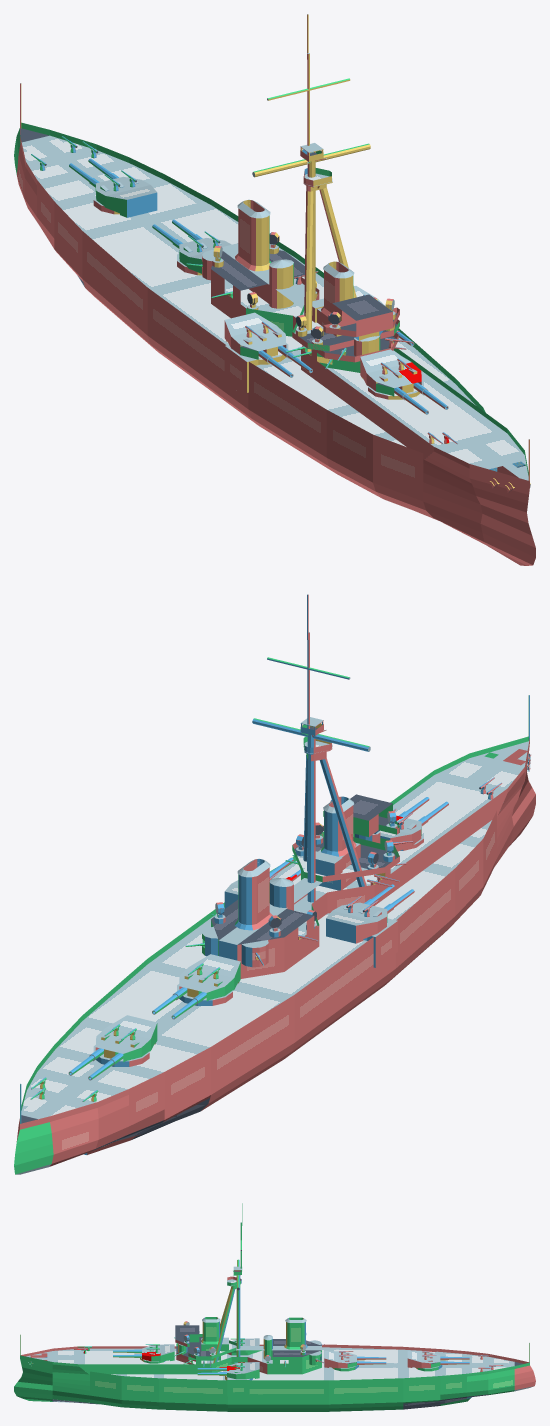
Rendered from dreadnought.glb.
3 renders of one model, top to bottom at view 1: azimuth 30°, elevation 25°; view 2: azimuth 150°, elevation 25°; view 3: azimuth 270°, elevation 25°, orthographic. The views are drawn at different scales.
Visible parts, largest first — view 1: cube (×20), raised_section, cylinder (×3), tube (×2), cube_selection (×2), aft_conning_tower, cube_selection_selection, q_barbette_armor; view 2: cube (×19), raised_section, cube_selection (×4), cylinder (×3), tube (×2), cube_selection_selection, aft_conning_tower; view 3: cube (×22), raised_section, cube_selection (×4), tube (×2), cylinder (×2), p_barbette_armor, cube_selection_selection.
Part boxes in pixels (left/top/right/bottom): cube (×20): left=18, top=135, right=529, bottom=523; raised_section: left=301, top=350, right=506, bottom=459; cylinder (×3): left=252, top=143, right=370, bottom=351; tube (×2): left=238, top=203, right=353, bottom=312; cube_selection (×2): left=317, top=294, right=433, bottom=451; aft_conning_tower: left=269, top=259, right=293, bottom=308; cube_selection_selection: left=211, top=251, right=267, bottom=290; q_barbette_armor: left=224, top=352, right=248, bottom=392; cube (×19): left=21, top=741, right=529, bottom=1154; raised_section: left=350, top=775, right=506, bottom=905; cube_selection (×4): left=218, top=794, right=392, bottom=978; cylinder (×3): left=252, top=718, right=370, bottom=902; tube (×2): left=238, top=800, right=353, bottom=924; cube_selection_selection: left=237, top=909, right=313, bottom=944; aft_conning_tower: left=269, top=878, right=293, bottom=910; cube (×22): left=20, top=1347, right=514, bottom=1411; raised_section: left=79, top=1348, right=211, bottom=1374; cube_selection (×4): left=79, top=1344, right=403, bottom=1383; tube (×2): left=202, top=1319, right=305, bottom=1346; cylinder (×2): left=213, top=1288, right=240, bottom=1363; p_barbette_armor: left=227, top=1383, right=249, bottom=1396; cube_selection_selection: left=272, top=1350, right=321, bottom=1356.
Size of the model in its own units: 1.03 by 2.57 by 6.14.
Materials: 1 (1 with a texture image).
